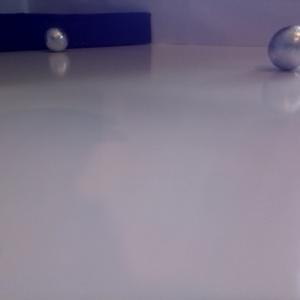zone: (1, 12, 152, 51)
